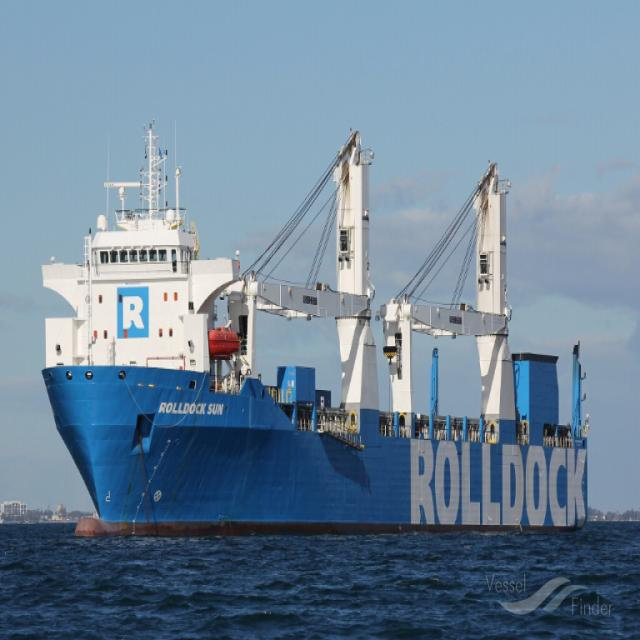OCR: (402, 430, 592, 529), (157, 392, 226, 417)
